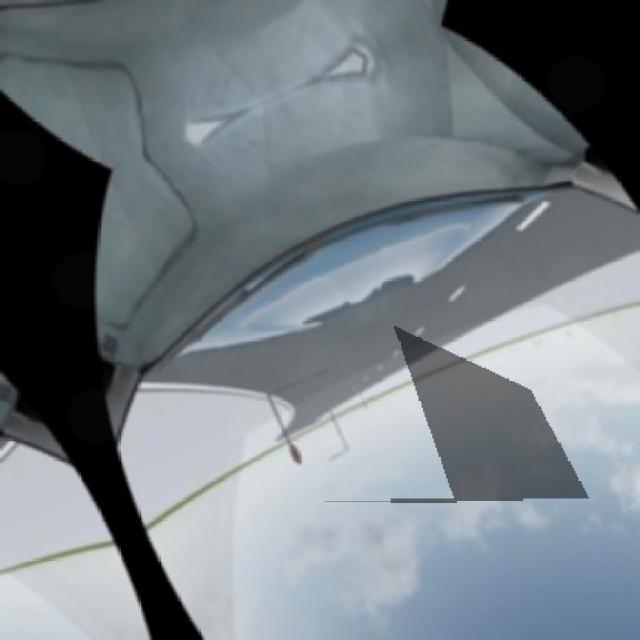forb_speed_over_120: (288, 444, 303, 464)
